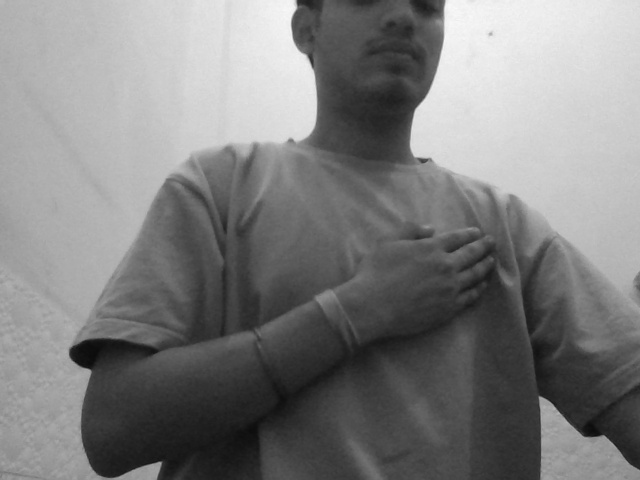Sorry: (310, 214, 561, 354)
